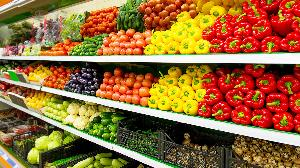bell_pepper: (200, 64, 300, 134), (209, 0, 300, 56), (145, 1, 223, 54), (152, 62, 210, 112), (118, 122, 170, 148)
cucumber: (88, 112, 126, 140), (72, 27, 102, 58), (118, 0, 146, 30)
eggplant: (66, 68, 106, 96)
tomato: (102, 22, 154, 57), (99, 69, 152, 103), (80, 4, 116, 38), (38, 36, 78, 57), (41, 66, 75, 90)
zucchini: (62, 146, 132, 168)
